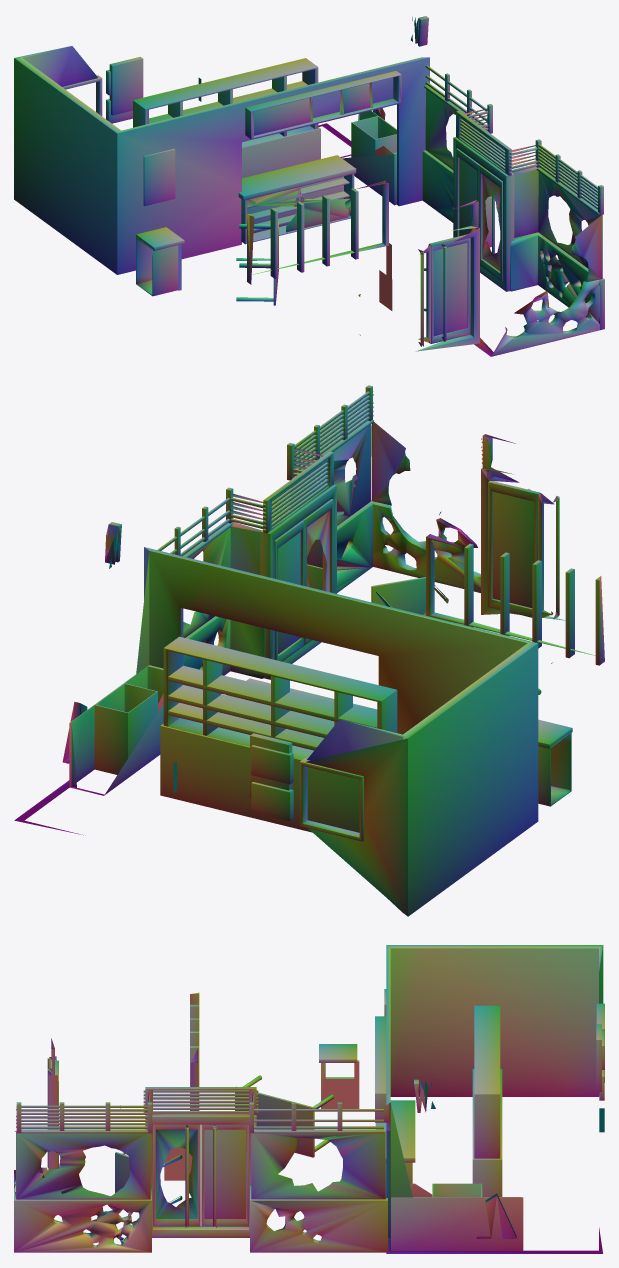
3 renders of one model, top to bottom at view 1: azimuth 30°, elevation 25°; view 2: azimuth 150°, elevation 25°; view 3: azimuth 270°, elevation 25°, orthographic. The views are drawn at different scales.
Visible parts, largest first — view 1: alt4.203; view 2: alt4.203; view 3: alt4.203.
Boxes of the visible parts, box(x1,y1,x2,y2) form: alt4.203: box(14, 16, 604, 356); alt4.203: box(14, 385, 604, 916); alt4.203: box(14, 945, 604, 1253).
Bounding box in the file's own units: 0.3334 × 0.165 × 0.5.
